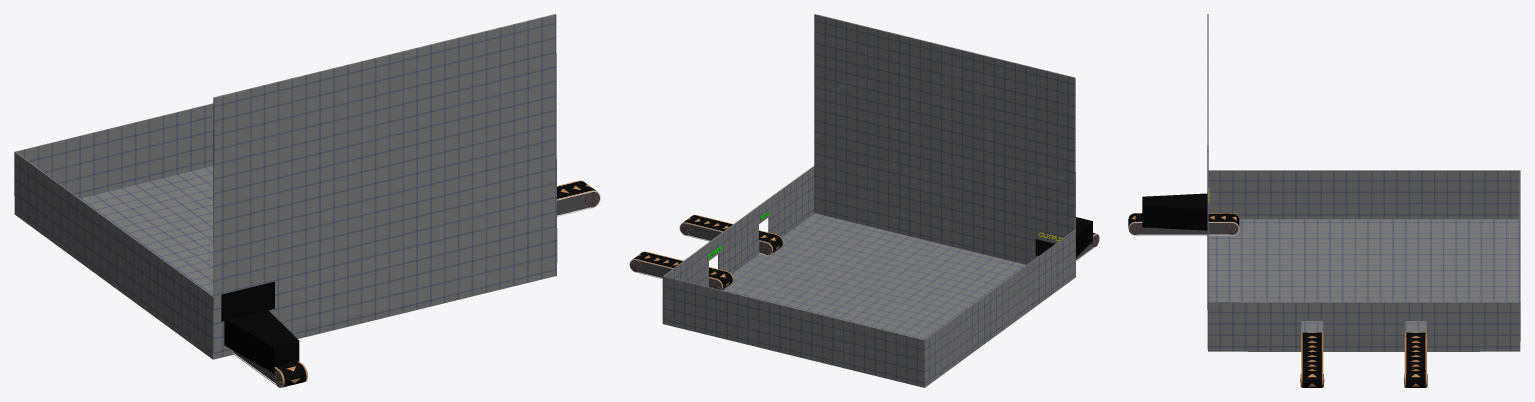
Rendered from map.gltf.
3 renders of one model, left to right at view 1: azimuth 30°, elevation 25°; view 2: azimuth 150°, elevation 25°; view 3: azimuth 270°, elevation 25°, orthographic. The views are drawn at different scales.
Parts seen in each view (by area): view 1: Bas, Lucka, belt, belt.001; view 2: Bas, belt, belt.002; view 3: Bas, belt.001, belt, belt.002.
Boxes of the visible parts, <box> form: Bas: <box>14,14,557,373</box>; Lucka: <box>221,281,274,321</box>; belt: <box>557,180,600,216</box>; belt.001: <box>233,351,307,387</box>; Bas: <box>662,14,1092,387</box>; belt: <box>679,214,783,255</box>; belt.002: <box>629,251,733,290</box>; Bas: <box>1142,14,1520,351</box>; belt.001: <box>1128,213,1239,235</box>; belt: <box>1301,332,1323,387</box>; belt.002: <box>1404,332,1426,387</box>.
Size of the model in its own units: 27.46 by 15.37 by 26.49.
9 materials, 2 textured.
